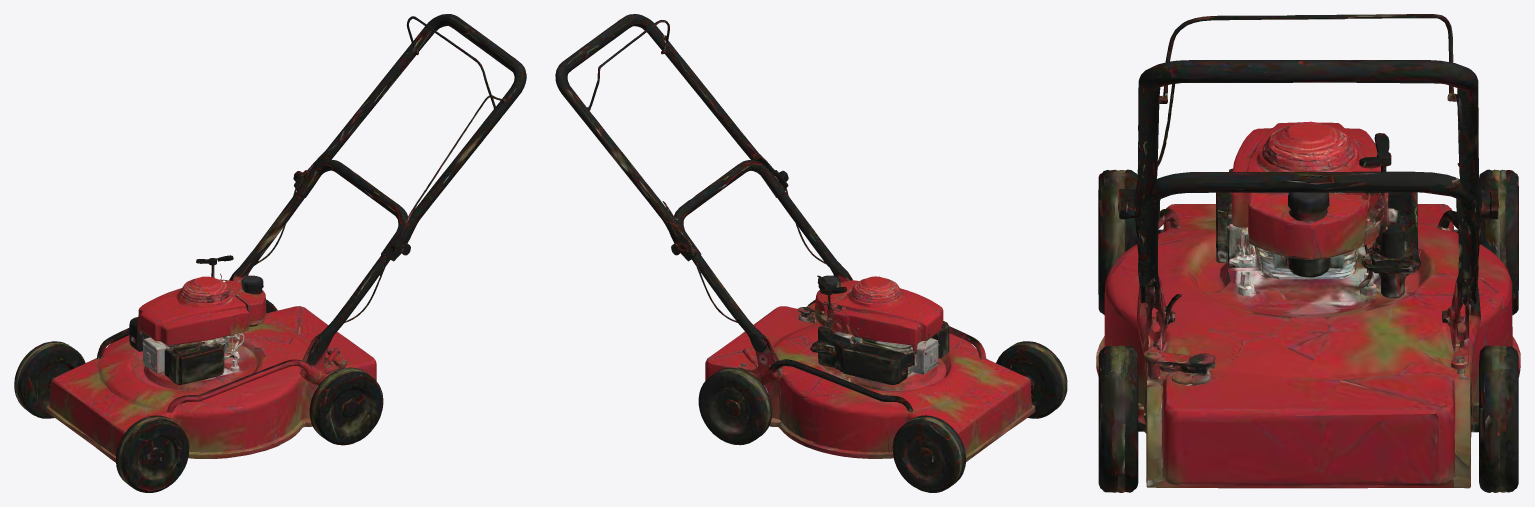
The model's file is mower.glb.
The picture shows the model from 3 angles, left to right: view 1: azimuth 30°, elevation 25°; view 2: azimuth 150°, elevation 25°; view 3: azimuth 270°, elevation 25°; orthographic projection. The views are drawn at different scales.
Size of the model in its own units: 1.9 by 1.4 by 0.8823.
Materials: 1 (1 with a texture image).
